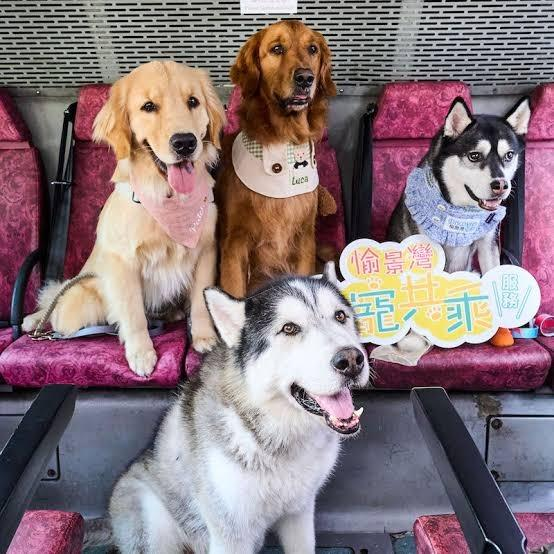adult_dog: (105, 260, 371, 554), (24, 59, 226, 380), (215, 20, 337, 302), (386, 95, 535, 274)
